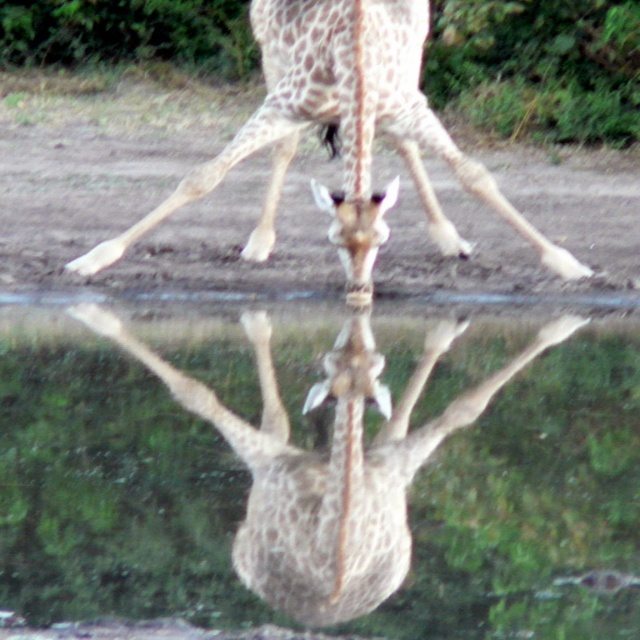Giraffe: (58, 0, 598, 304)
